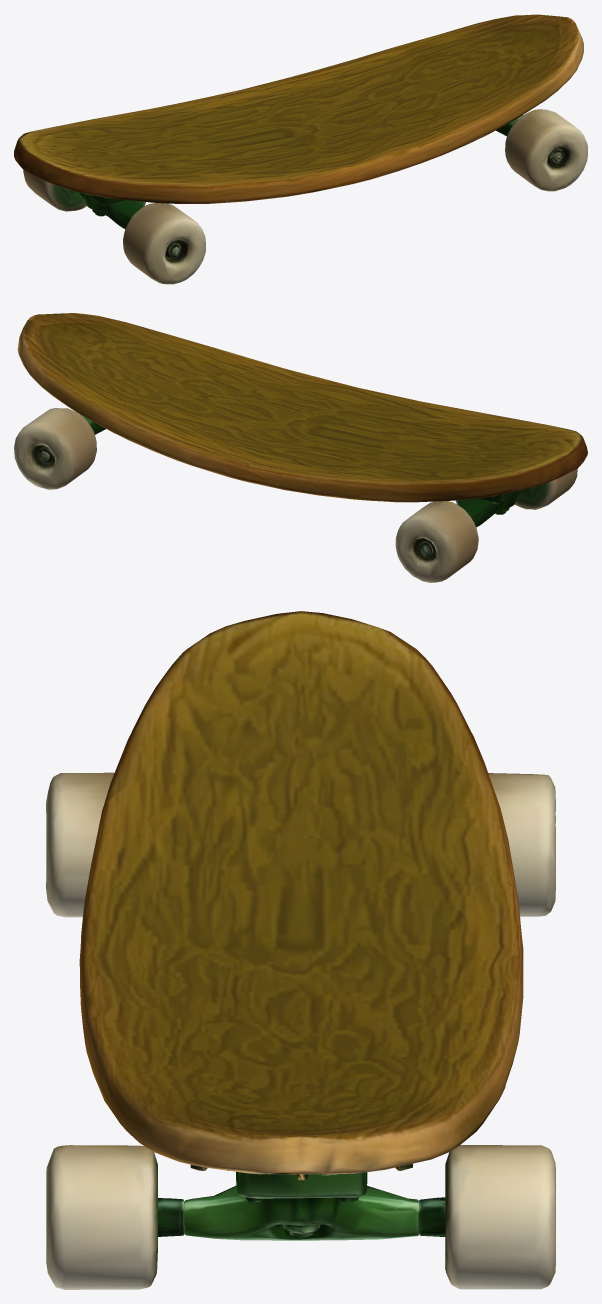
The model's file is CCG_Deck_EmeraldPawKata_web.glb.
3 renders of one model, top to bottom at view 1: azimuth 30°, elevation 25°; view 2: azimuth 150°, elevation 25°; view 3: azimuth 270°, elevation 25°, orthographic. The views are drawn at different scales.
Parts seen in each view (by area): view 1: SM_Deck_EmeraldPawKata; view 2: SM_Deck_EmeraldPawKata; view 3: SM_Deck_EmeraldPawKata.
Boxes of the visible parts, x1=… form: SM_Deck_EmeraldPawKata: x1=14, y1=14, x2=587, y2=284; SM_Deck_EmeraldPawKata: x1=14, y1=313, x2=587, y2=582; SM_Deck_EmeraldPawKata: x1=46, y1=611, x2=555, y2=1289.
Bounding box in the file's own units: 0.8195 × 0.1548 × 0.3271.
1 material, 1 textured.
